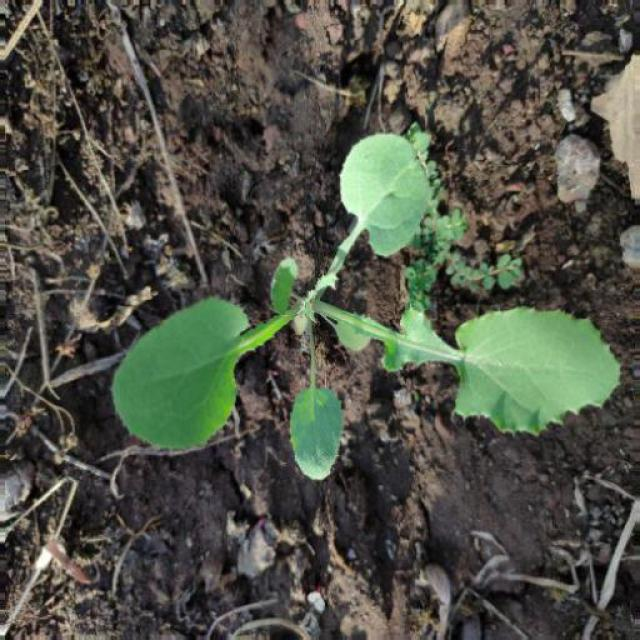weed: (89, 126, 625, 465)
